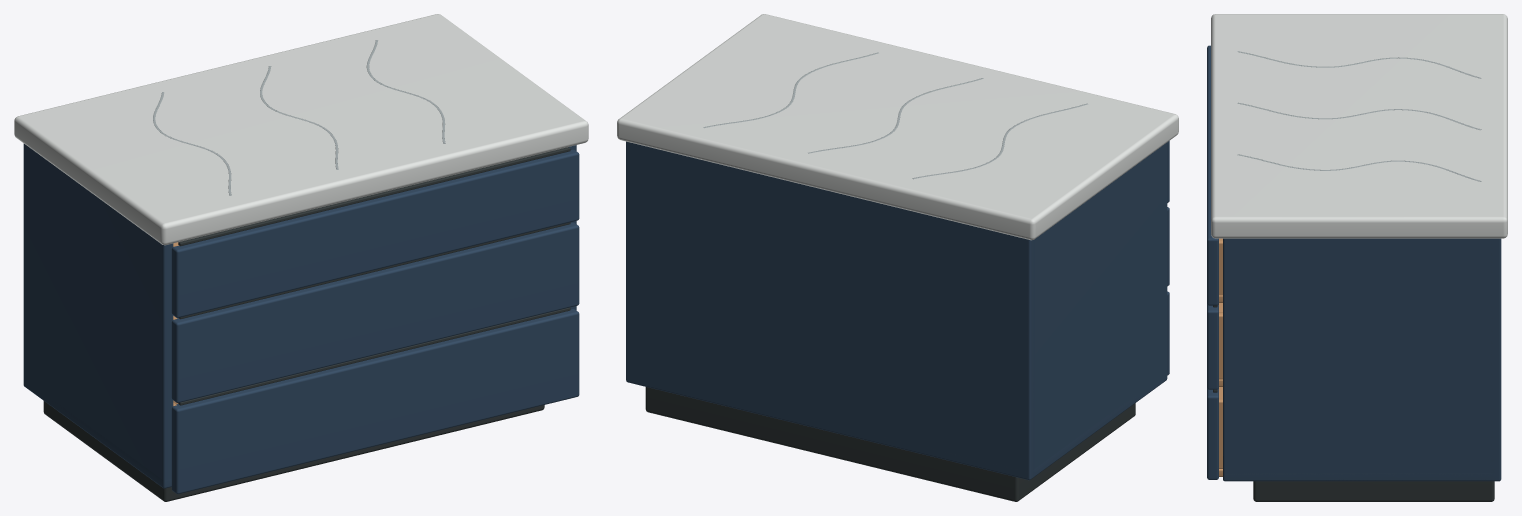
Rendered from kitchenModernCounterNavy.glb.
3 views of the same model, side by side, from view 1: azimuth 30°, elevation 25°; view 2: azimuth 150°, elevation 25°; view 3: azimuth 270°, elevation 25° (orthographic). The views are drawn at different scales.
Visible parts, largest first — view 1: Thick stone worktop, Handleless kitchen drawer.002, Storage inner side, Handleless kitchen drawer.001, Handleless kitchen drawer, Recessed kitchen plinth, Recessed drawer pull, Recessed drawer pull.002, Recessed drawer pull.001, Storage inner floor; view 2: Storage inner back, Thick stone worktop, Storage inner side, Recessed kitchen plinth, Storage inner floor; view 3: Storage inner side.001, Thick stone worktop, Recessed kitchen plinth, Storage inner floor, Handleless kitchen drawer, Handleless kitchen drawer.002, Handleless kitchen drawer.001, Storage inner back, Fine stone vein, Fine stone vein.002, Fine stone vein.001.
Boxes of the visible parts, <box> form: Thick stone worktop: <box>14,14,588,245</box>; Handleless kitchen drawer.002: <box>171,309,579,494</box>; Storage inner side: <box>23,143,173,488</box>; Handleless kitchen drawer.001: <box>171,222,579,402</box>; Handleless kitchen drawer: <box>171,149,579,317</box>; Recessed kitchen plinth: <box>43,401,544,501</box>; Recessed drawer pull: <box>178,147,570,246</box>; Recessed drawer pull.002: <box>178,307,570,405</box>; Recessed drawer pull.001: <box>179,222,570,319</box>; Storage inner floor: <box>52,401,178,488</box>; Storage inner back: <box>626,141,1034,480</box>; Thick stone worktop: <box>617,14,1178,240</box>; Storage inner side: <box>1022,142,1167,479</box>; Recessed kitchen plinth: <box>645,387,1135,501</box>; Storage inner floor: <box>787,379,1166,476</box>; Storage inner side.001: <box>1223,238,1501,481</box>; Thick stone worktop: <box>1211,14,1507,238</box>; Recessed kitchen plinth: <box>1253,481,1494,501</box>; Storage inner floor: <box>1224,473,1498,481</box>; Handleless kitchen drawer: <box>1207,45,1218,305</box>; Handleless kitchen drawer.002: <box>1207,388,1218,479</box>; Handleless kitchen drawer.001: <box>1207,304,1218,389</box>; Storage inner back: <box>1491,238,1501,480</box>; Fine stone vein: <box>1237,51,1481,78</box>; Fine stone vein.002: <box>1237,154,1481,181</box>; Fine stone vein.001: <box>1237,102,1481,130</box>.
Size of the model in its own units: 1.84 by 1.23 by 1.13.
